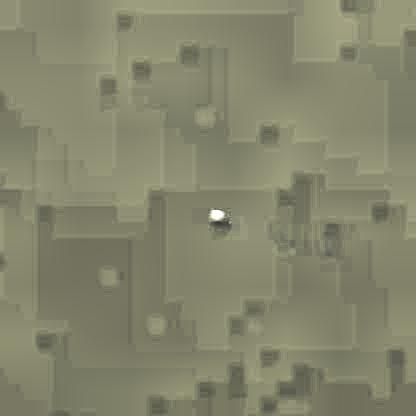golfball: (207, 207, 223, 221)
